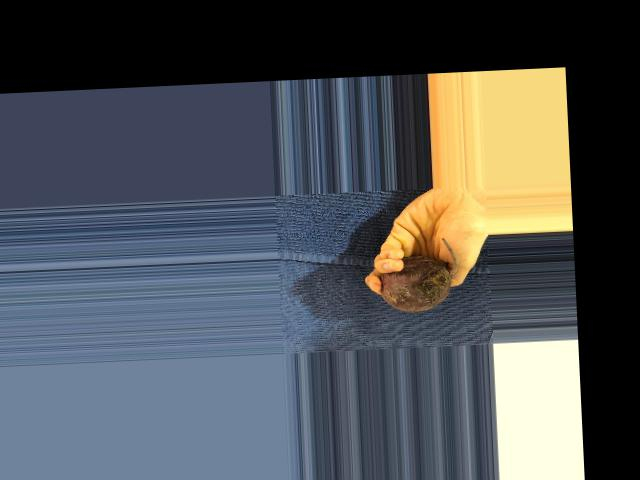beet: (377, 236, 459, 312)
